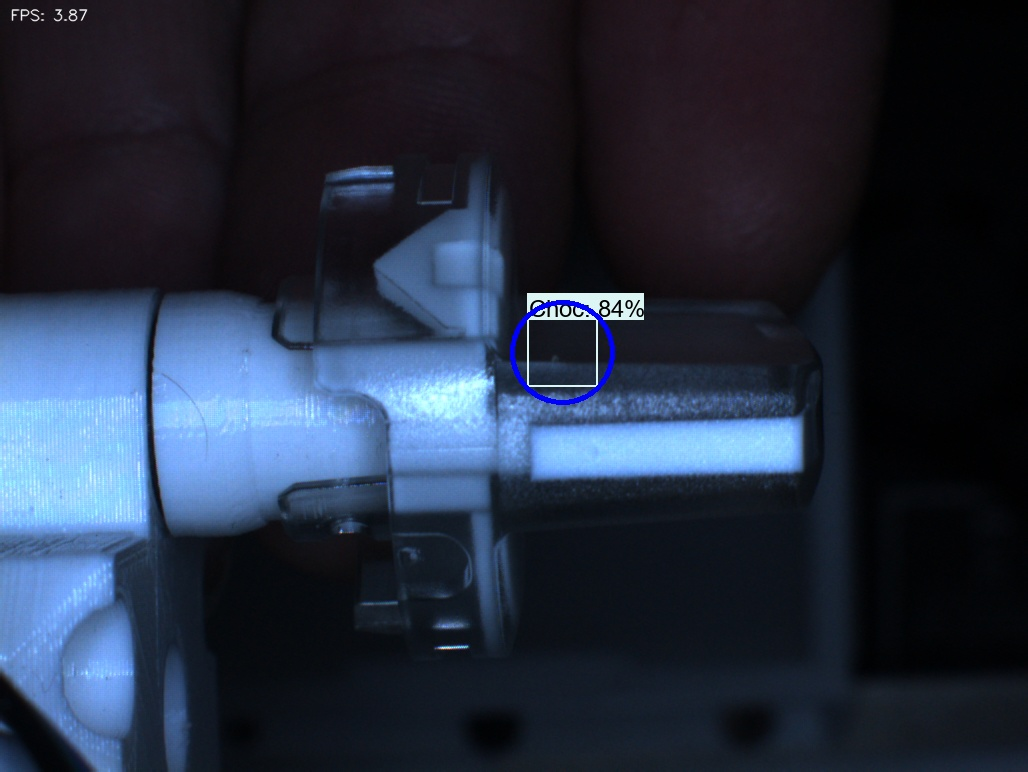DentOk: (339, 222, 423, 315)
